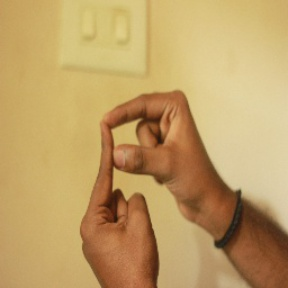P: (78, 84, 202, 242)
